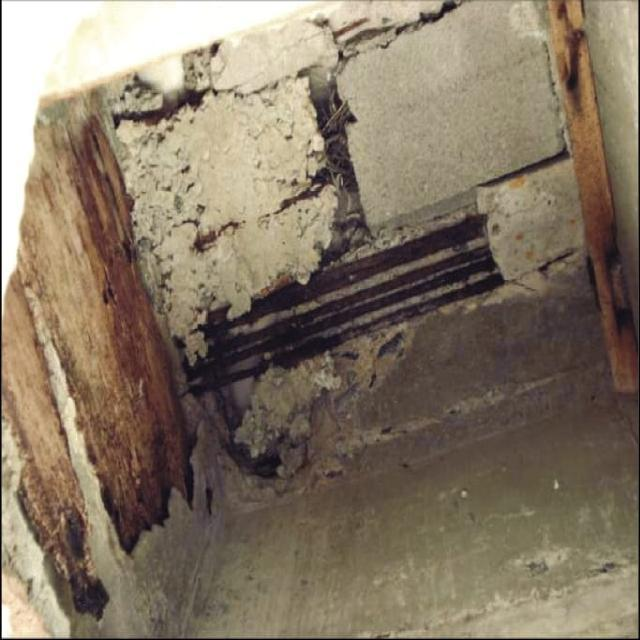stain_mould: (181, 217, 506, 403)
